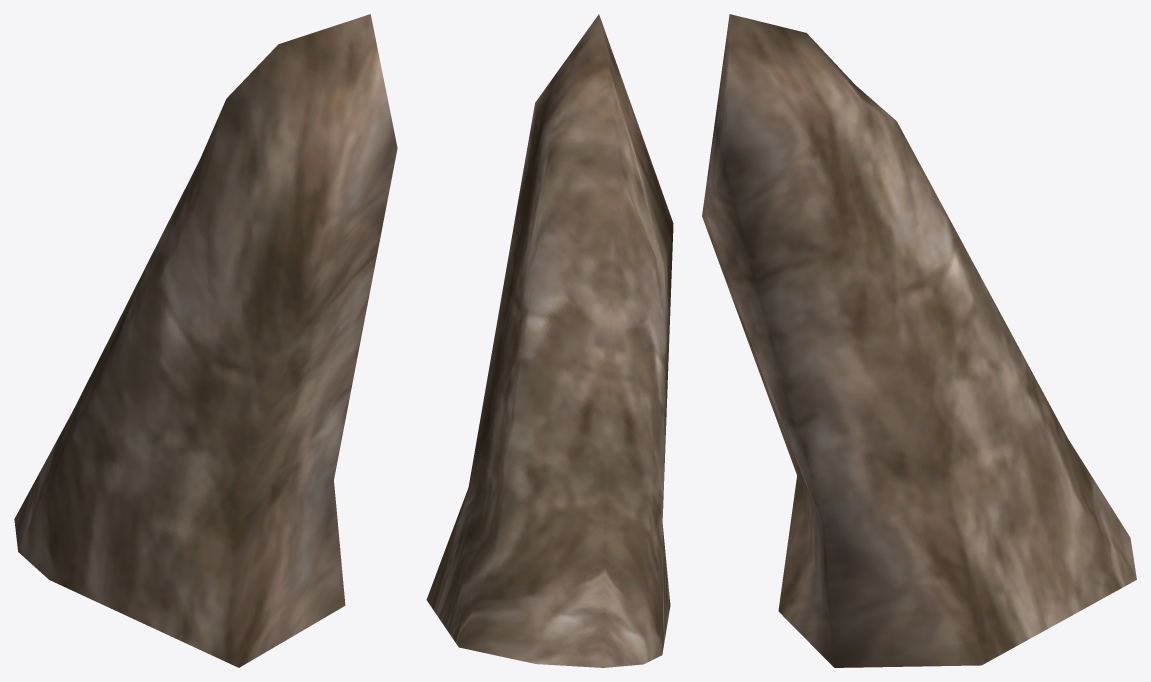
Rendered from OVERHILL_A_01_ROCK45.fbx.
The picture shows the model from 3 angles, left to right: view 1: azimuth 30°, elevation 25°; view 2: azimuth 150°, elevation 25°; view 3: azimuth 270°, elevation 25°; orthographic projection. The views are drawn at different scales.
Parts seen in each view (by area): view 1: OVERHILL_A_01_ROCK45; view 2: OVERHILL_A_01_ROCK45; view 3: OVERHILL_A_01_ROCK45.
Boxes of the visible parts, bbox=[...] form: OVERHILL_A_01_ROCK45: bbox=[14, 14, 397, 667]; OVERHILL_A_01_ROCK45: bbox=[426, 14, 673, 667]; OVERHILL_A_01_ROCK45: bbox=[702, 14, 1136, 667].
Bounding box in the file's own units: 22592 × 50105 × 30380.
1 material, 1 textured.
